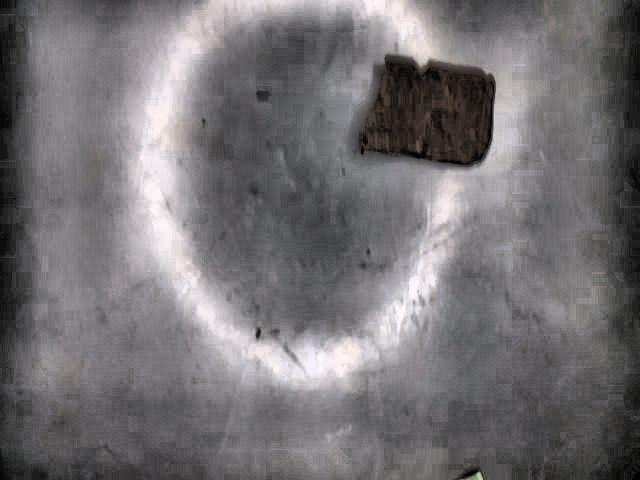Almennt: (360, 55, 496, 167)
